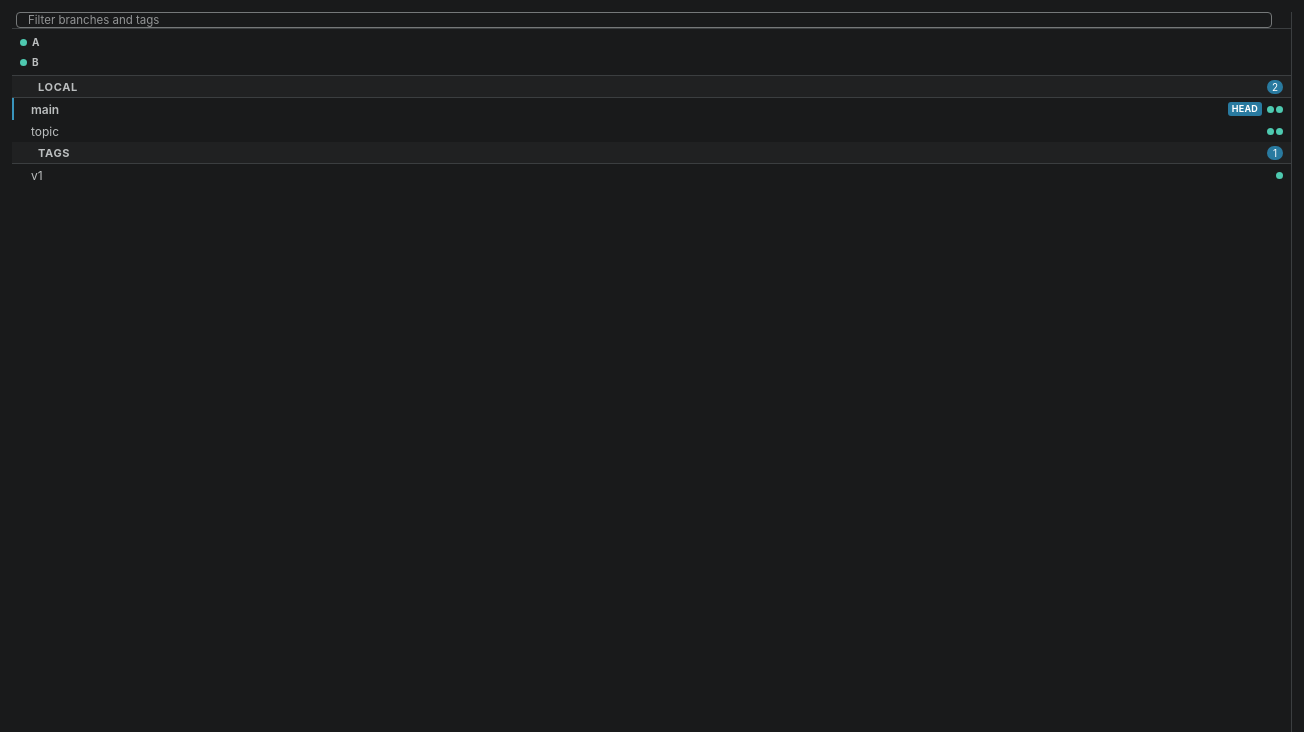
Test: plugin sidebar interaction parity › shows tag type metadata and blocks all tag actions while another entry point is busy
Expected: the button named "New Tag..." is disabled, top-left (74, 142), bottom-right (96, 164)
Step 1. Right-click the button "v1" → (37, 175), box top-left (12, 164), bottom-right (1291, 186)
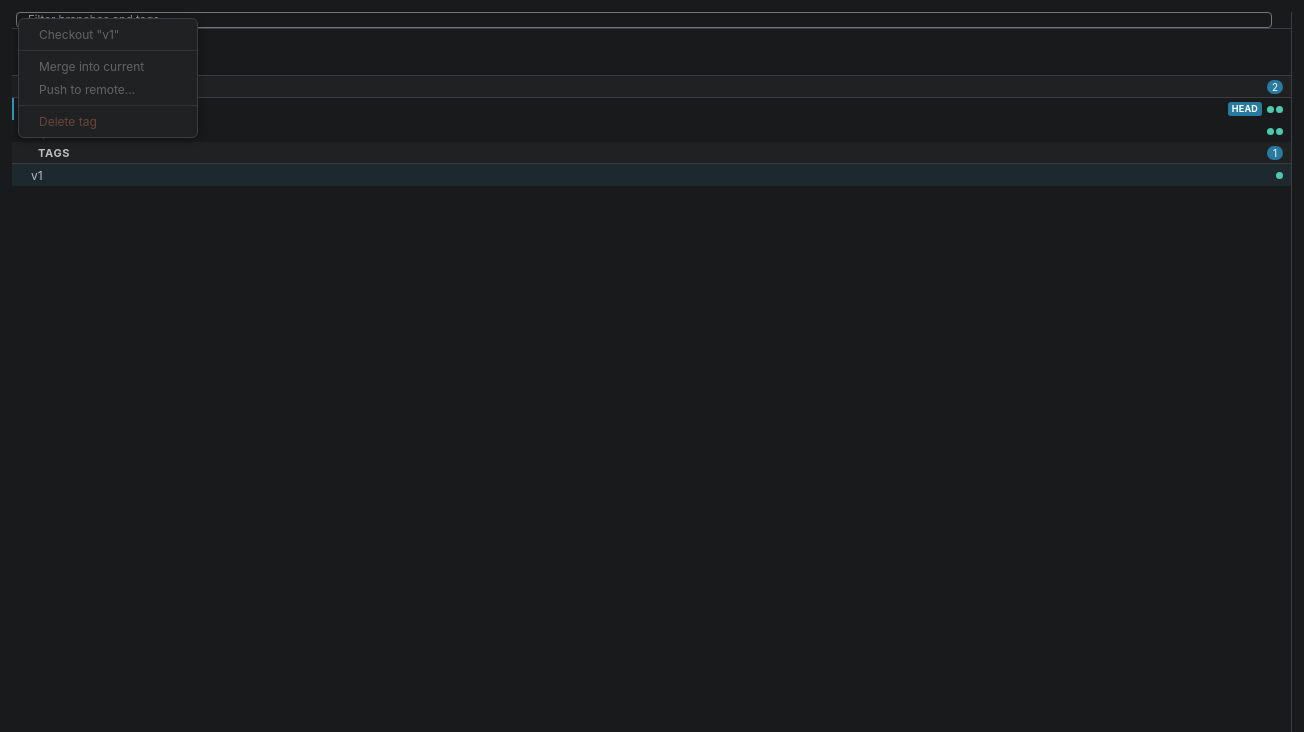
Result: the menu item "Checkout \"v1\"" is disabled at top-left (19, 23), bottom-right (197, 46)
Result: the menu item "Merge into current" is disabled at top-left (19, 55), bottom-right (197, 78)
Result: the menu item "Push to remote..." is disabled at top-left (19, 78), bottom-right (197, 101)
